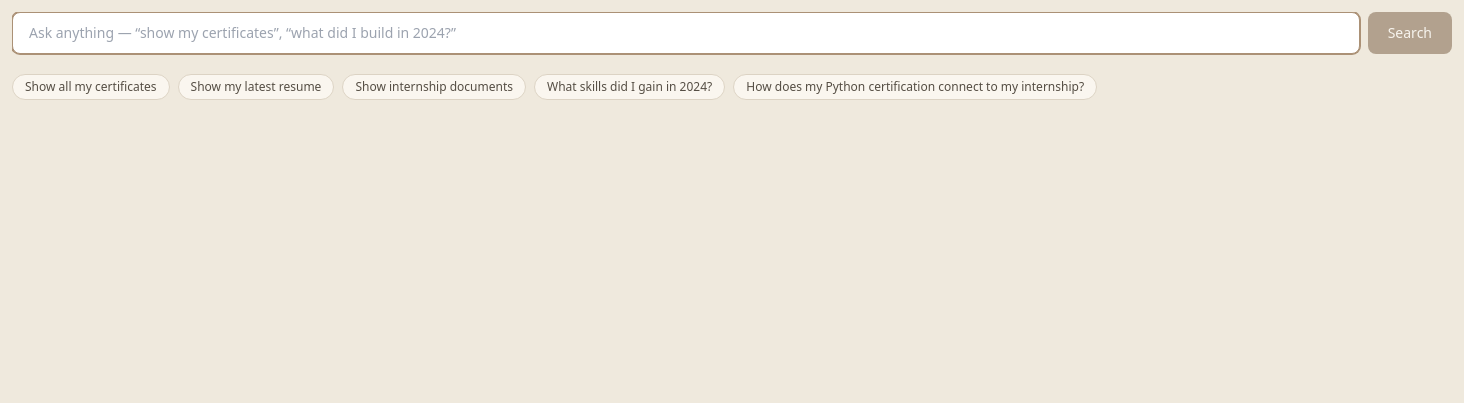
Search routing › paints the sources without waiting on the slower answer
The width and height of the screenshot is (1464, 403).
Type "how does my cert connect to my internship?" into the search field at (686, 33), box [12,12,1360,54]
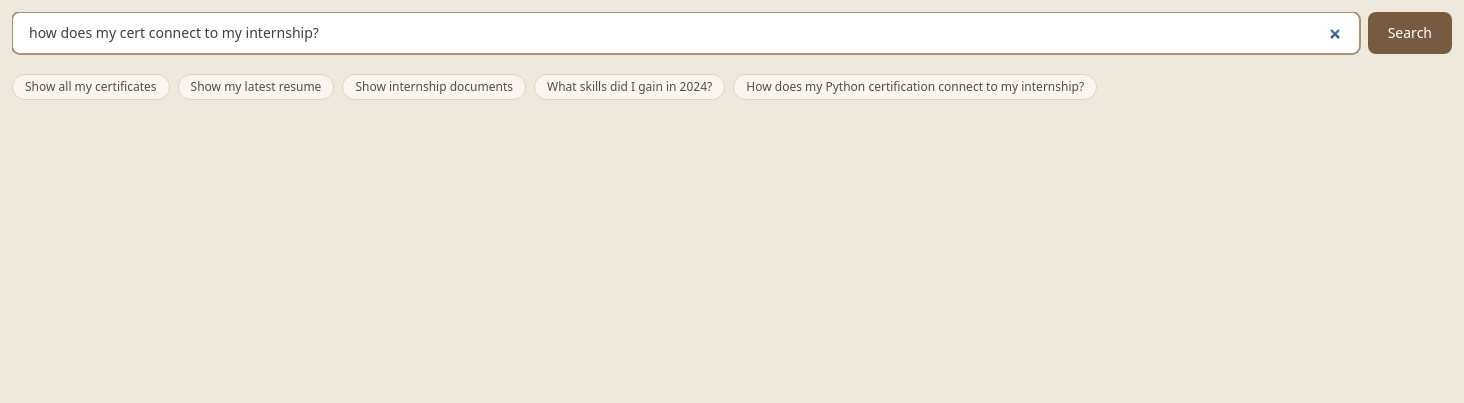
Click the button "Search" at (1410, 33), box [1368,12,1452,54]
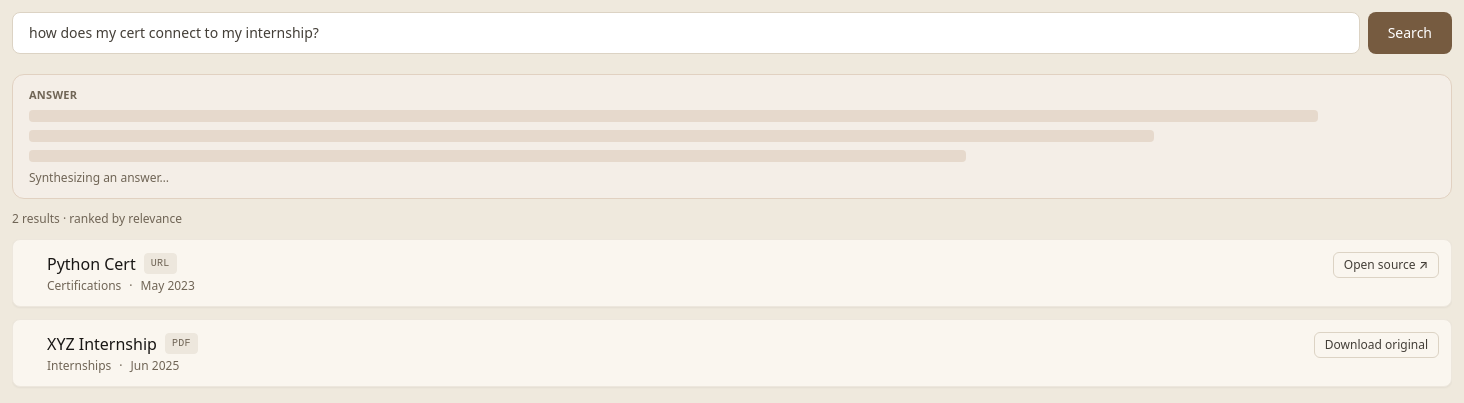
Expected: the text "Python Cert" is shown, [47,252,136,276]
Expected: the text "XYZ Internship" is shown, [47,332,157,356]
